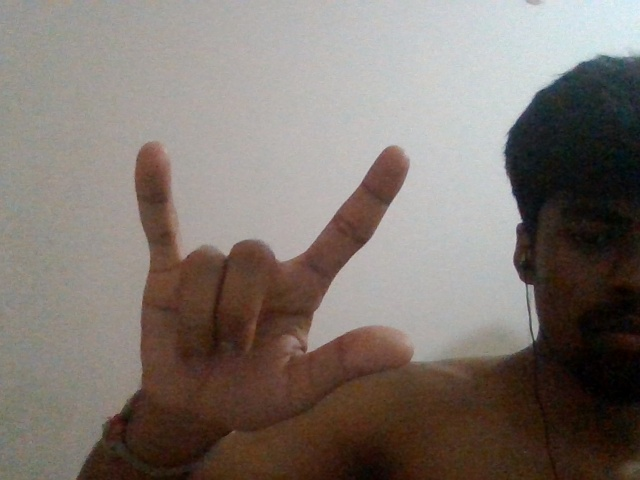ILoveYou: (109, 111, 426, 443)
